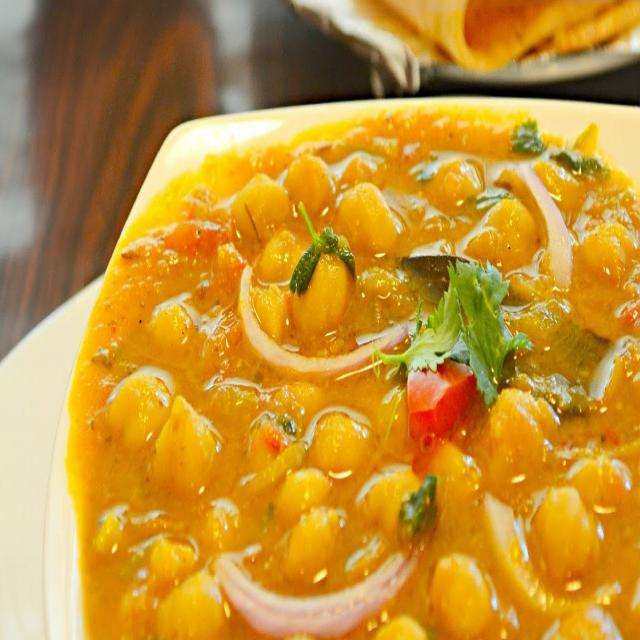Chole: (75, 105, 640, 640)
